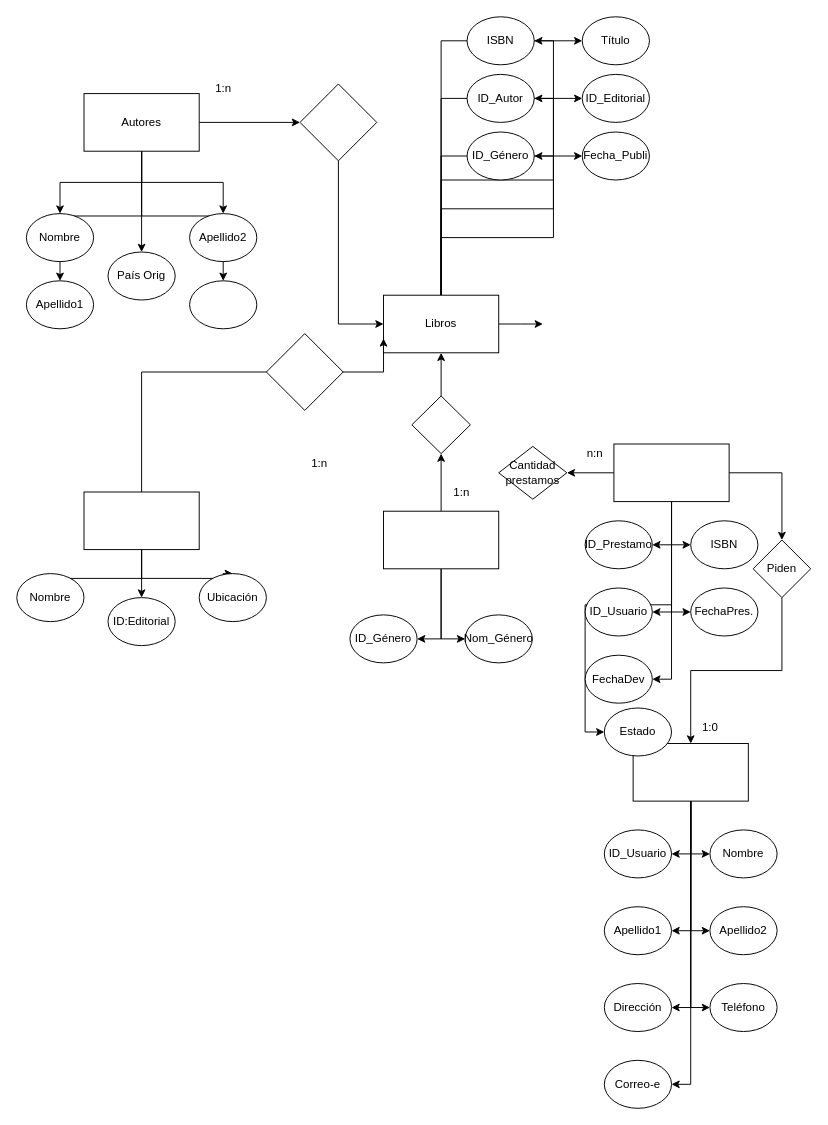
The diagram is 828 pixels wide and 1125 high, and some of its shapes have lost their labels. The centre of each missing label's shape, as x and y in pixels:
"Cuantos hay dentro" goes at [440,424].
"Editoriales" goes at [141,520].
"Escriben" goes at [338,122].
"Géneros" goes at [441,539].
"Id.Autor" goes at [223,304].
"Producen" goes at [304,371].
"Préstamos" goes at [671,472].
"Usuarios" goes at [690,772].
